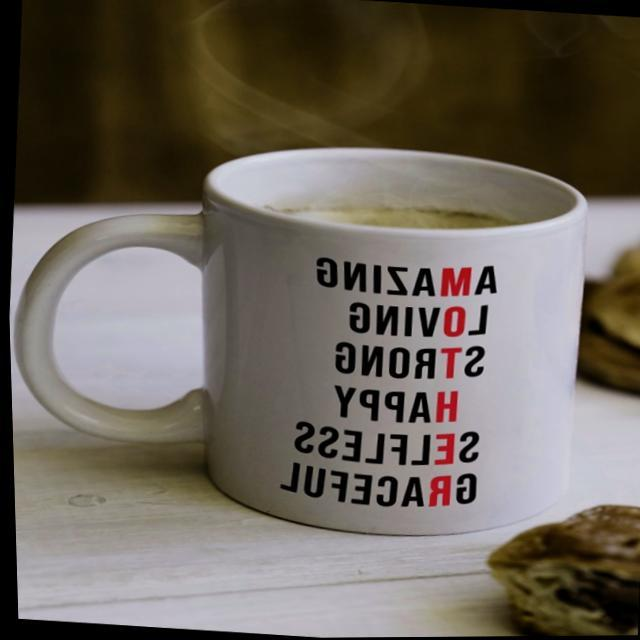cup: (3, 116, 595, 558)
